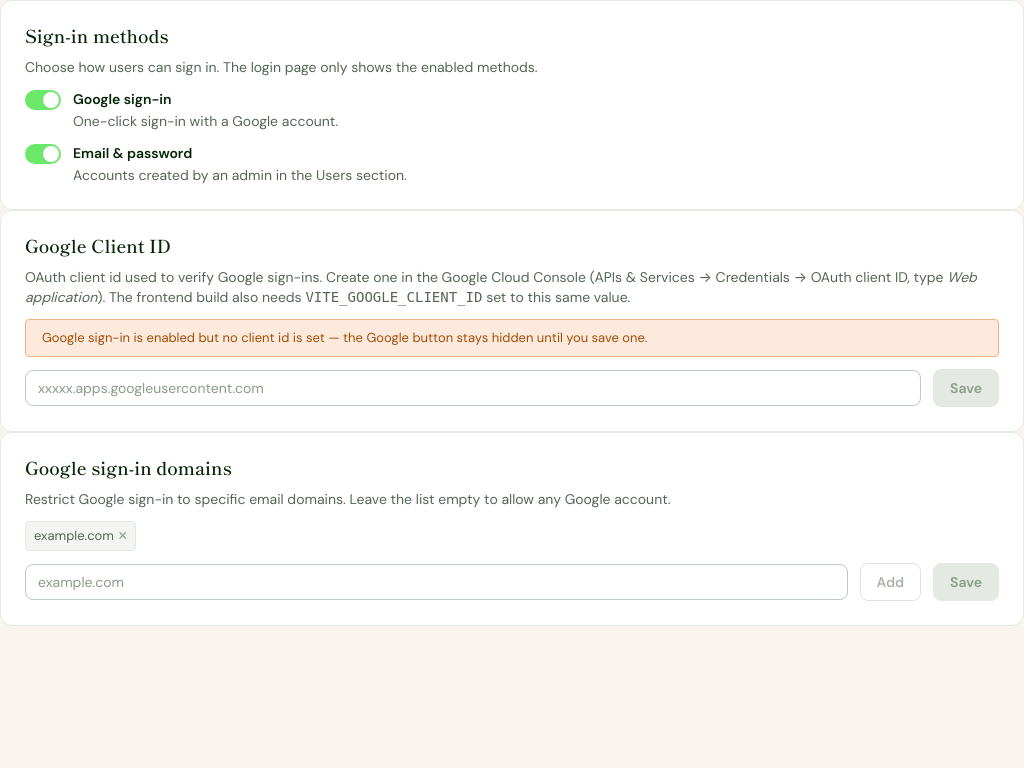
Test case: AdminAuthentication › edits and saves the domain list
Expected: the text "example.com" is shown, [34, 527, 114, 544]
Expected: the 2nd button "Save" is disabled, [933, 563, 999, 601]
Type "example.org" into the field with placeholder "example.com" at (436, 582), box [25, 564, 848, 600]
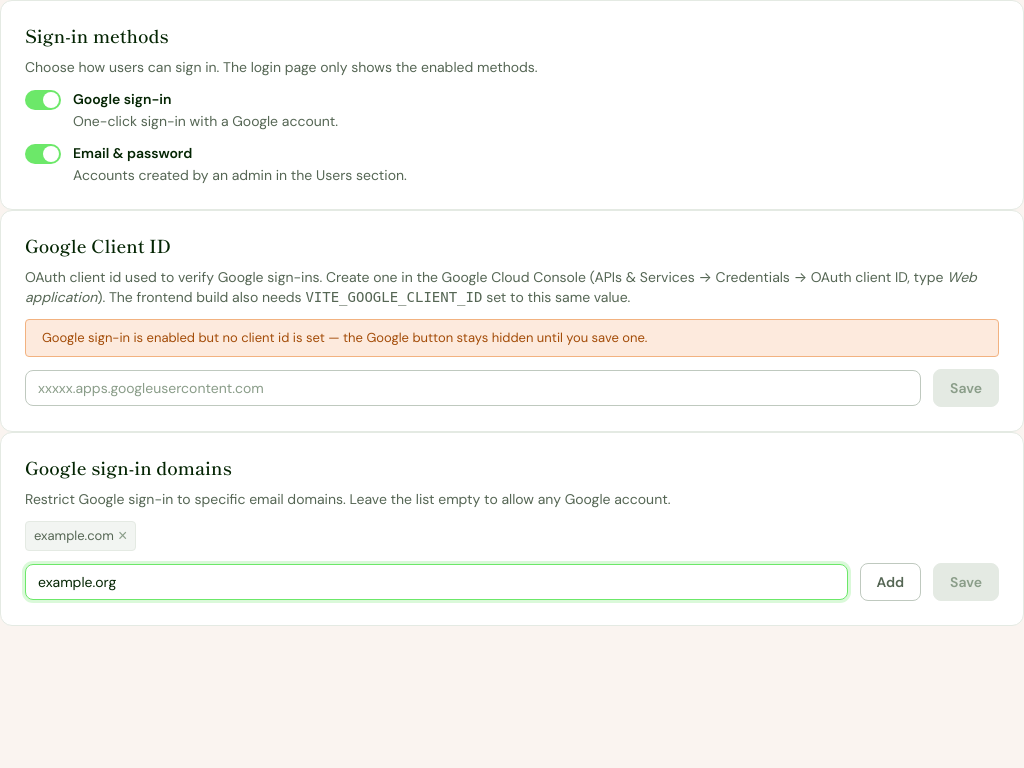
Click the button "Add" at (890, 582), box [860, 563, 921, 601]
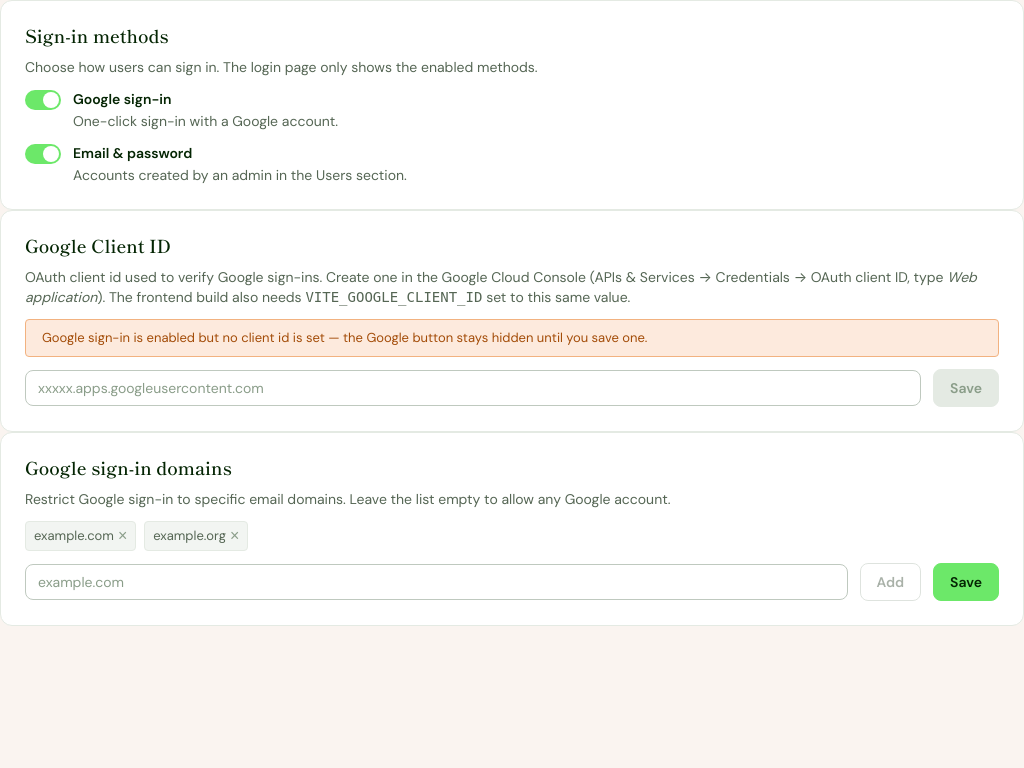
Now the 2nd button "Save" is enabled
Click the 2nd button "Save" at (966, 582), box [933, 563, 999, 601]
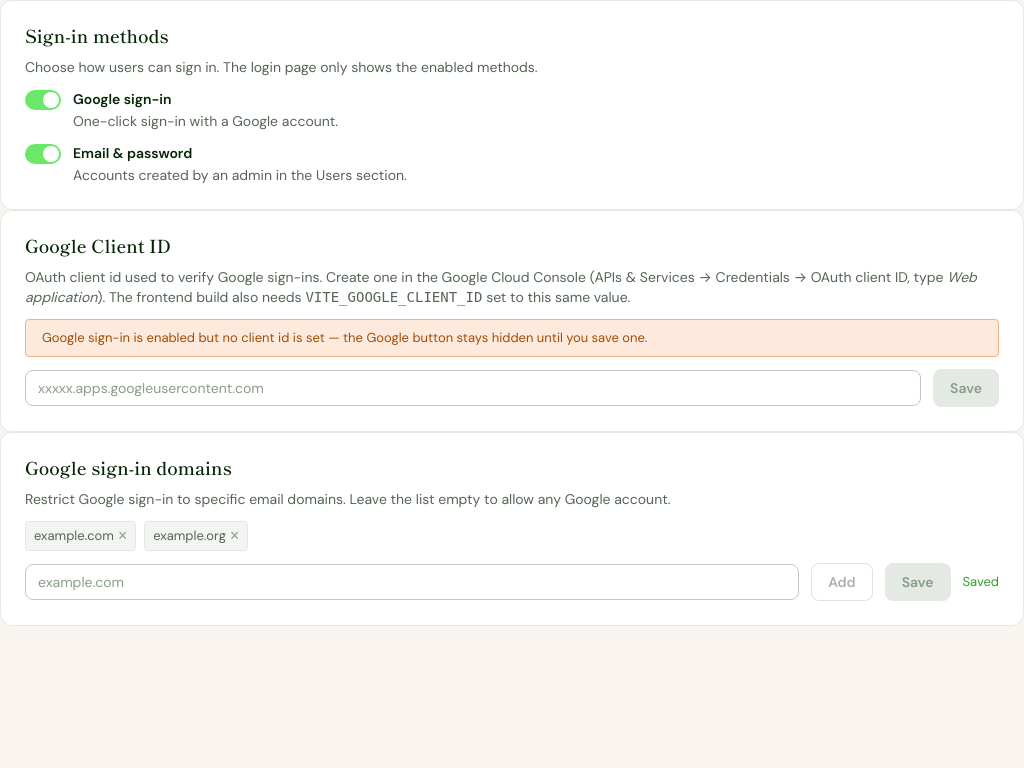
Now the text "Saved" is shown, box [963, 572, 999, 592]
